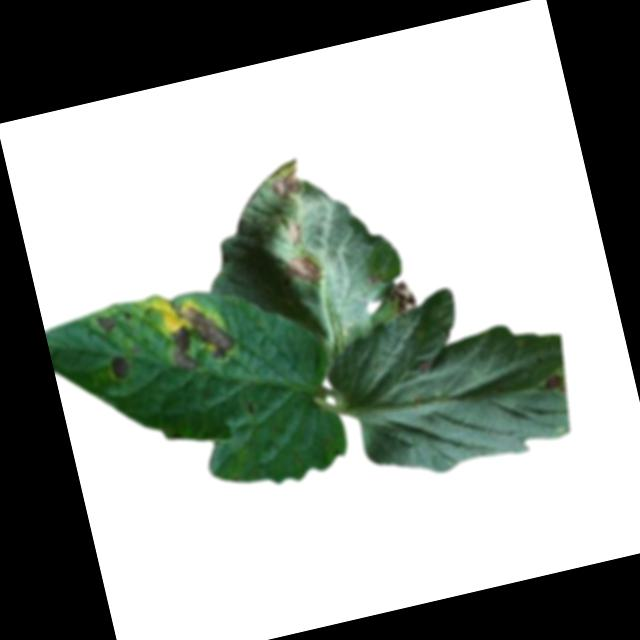Early_blight: (161, 295, 239, 376), (286, 248, 325, 288), (384, 275, 420, 317), (269, 167, 304, 200), (104, 351, 131, 383), (94, 309, 118, 339), (539, 369, 563, 394), (288, 221, 306, 248), (415, 352, 434, 375)
